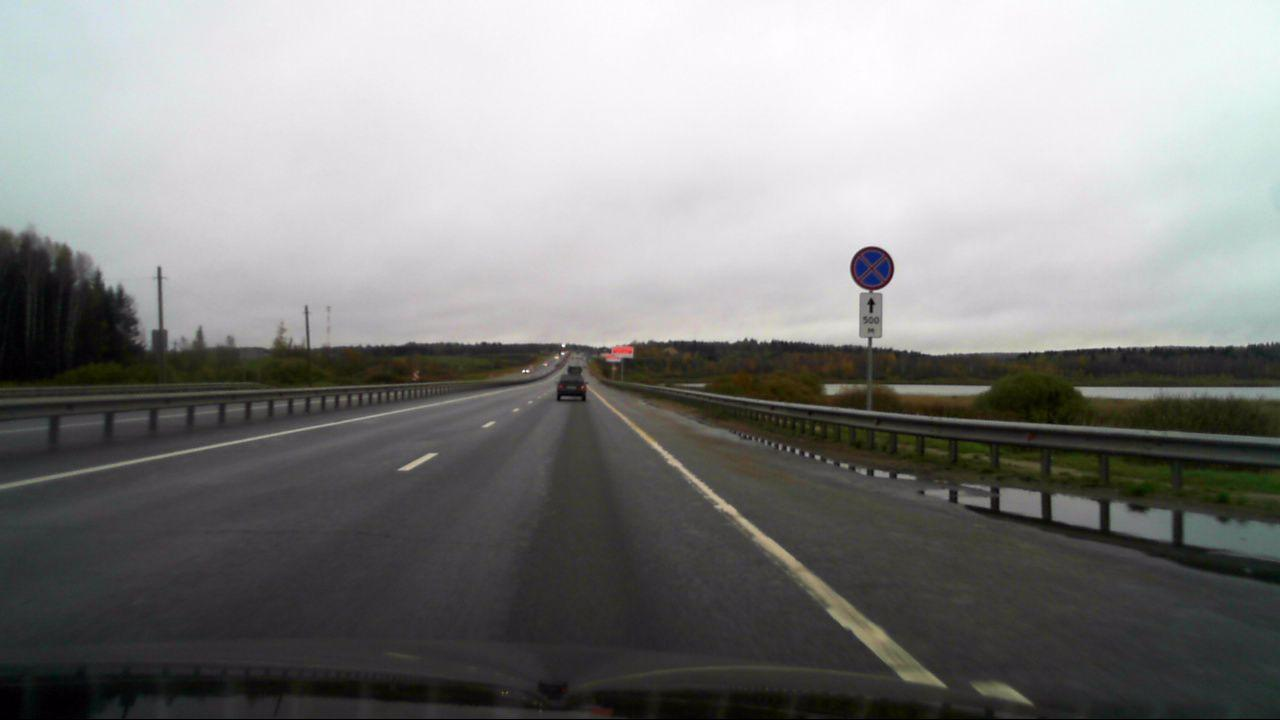3_27: (850, 244, 895, 288)
8_2_2: (860, 292, 882, 336)
